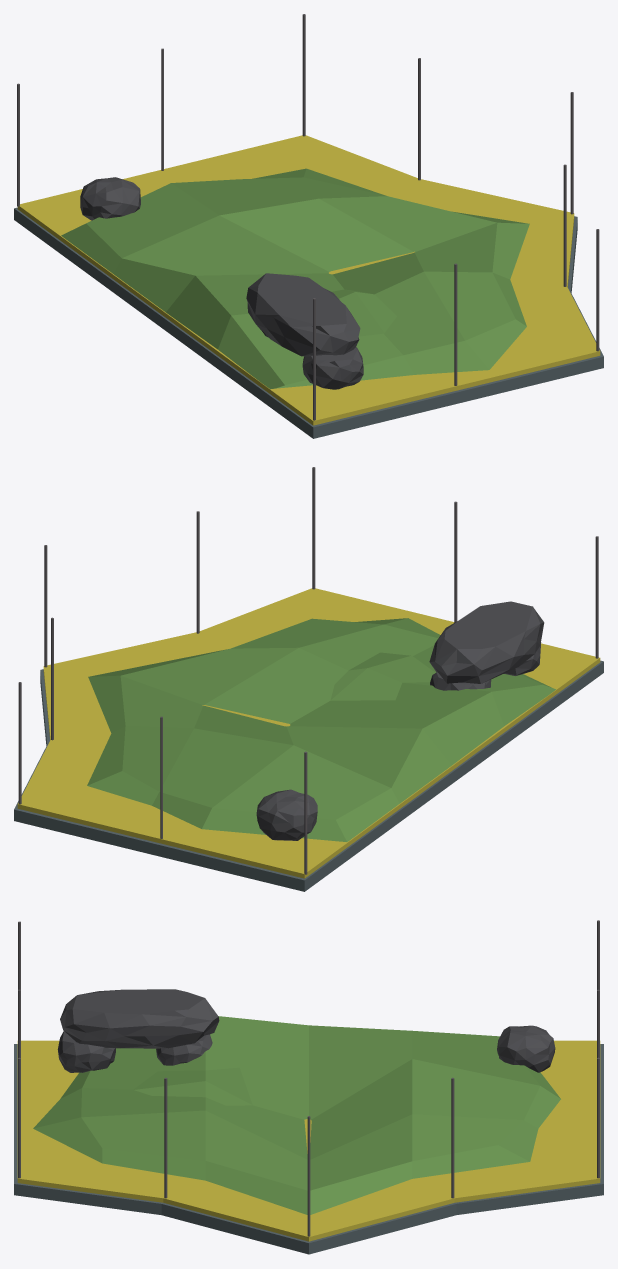
File: LionEnclosure.fbx
The picture shows the model from 3 angles, top to bottom: view 1: azimuth 30°, elevation 25°; view 2: azimuth 150°, elevation 25°; view 3: azimuth 270°, elevation 25°; orthographic projection.
Parts seen in each view (by area): view 1: Grass, Sand, Sand.001, Rock, Rock.003; view 2: Grass, Sand, Sand.001, Rock, Rock.003; view 3: Grass, Sand, Rock, Sand.001, Rock.003, Pole.003, Pole.004, Pole.005.
Boxes of the visible parts, box(x1,y1,x2,y2) form: Grass: box(61, 168, 529, 389); Sand: box(17, 135, 600, 425); Sand.001: box(14, 207, 603, 438); Rock: box(246, 273, 363, 389); Rock.003: box(80, 177, 140, 220); Grass: box(87, 618, 555, 841); Sand: box(17, 588, 600, 878); Sand.001: box(14, 660, 603, 891); Rock: box(429, 601, 544, 690); Rock.003: box(256, 789, 317, 840); Grass: box(33, 1016, 560, 1214); Sand: box(17, 1040, 600, 1241); Rock: box(57, 989, 219, 1072); Sand.001: box(14, 1044, 603, 1254); Rock.003: box(497, 1025, 555, 1072); Pole.003: box(164, 1077, 167, 1198); Pole.004: box(451, 1077, 454, 1198); Pole.005: box(307, 1116, 310, 1236).
Size of the model in its own units: 9791 by 3106 by 12258.
